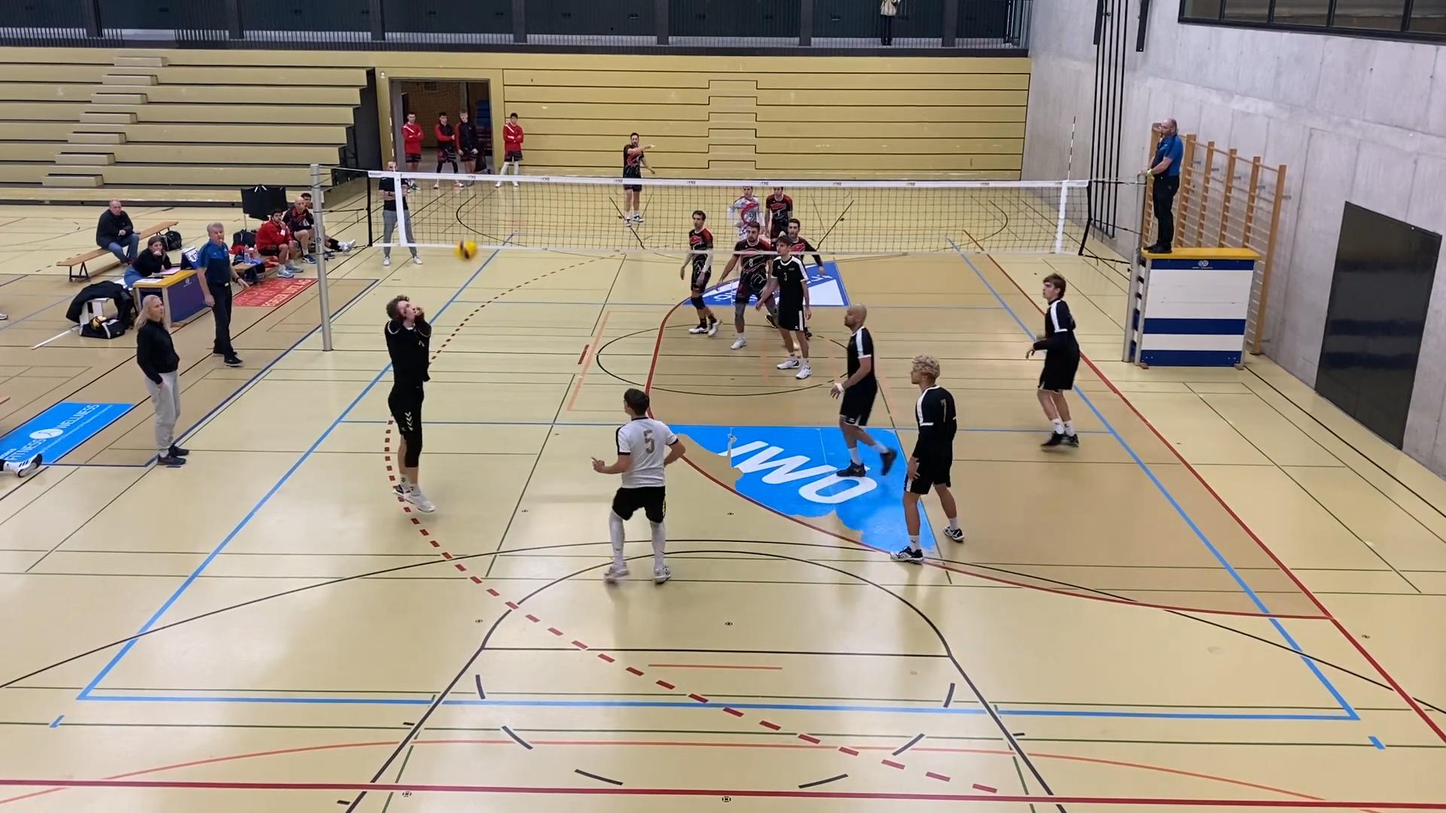ricezione: (382, 293, 437, 517)
